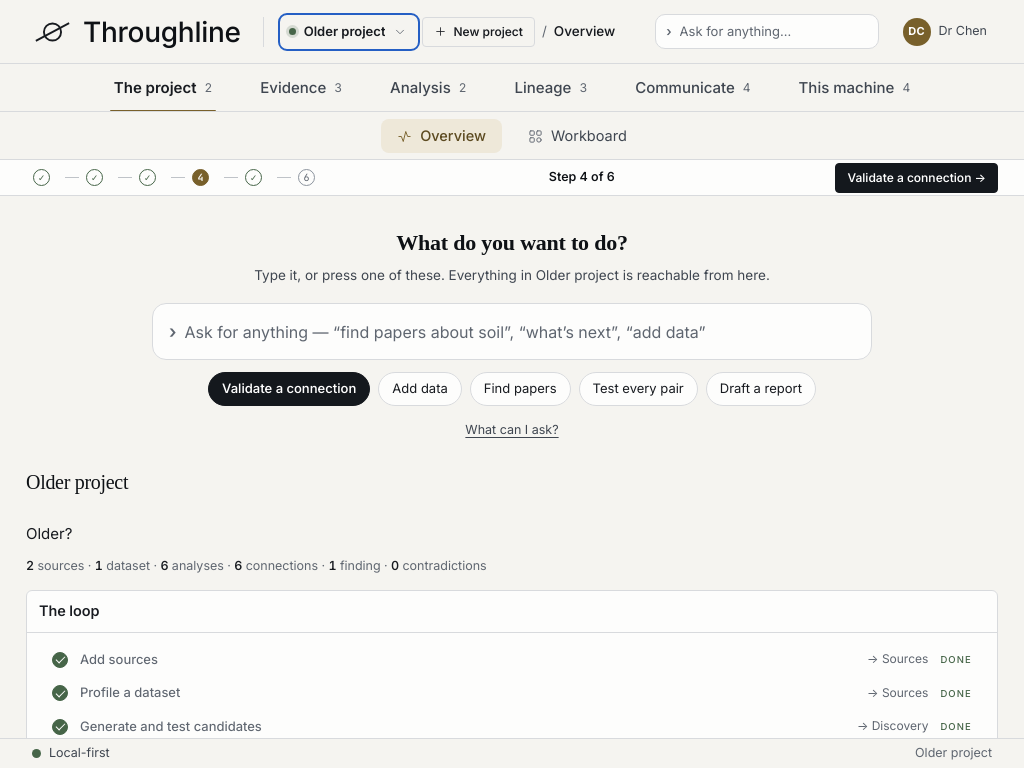
Scenario: a project just created is the one on screen (D196) › offers the worked example to an account that already has projects (D199)
Press Enter
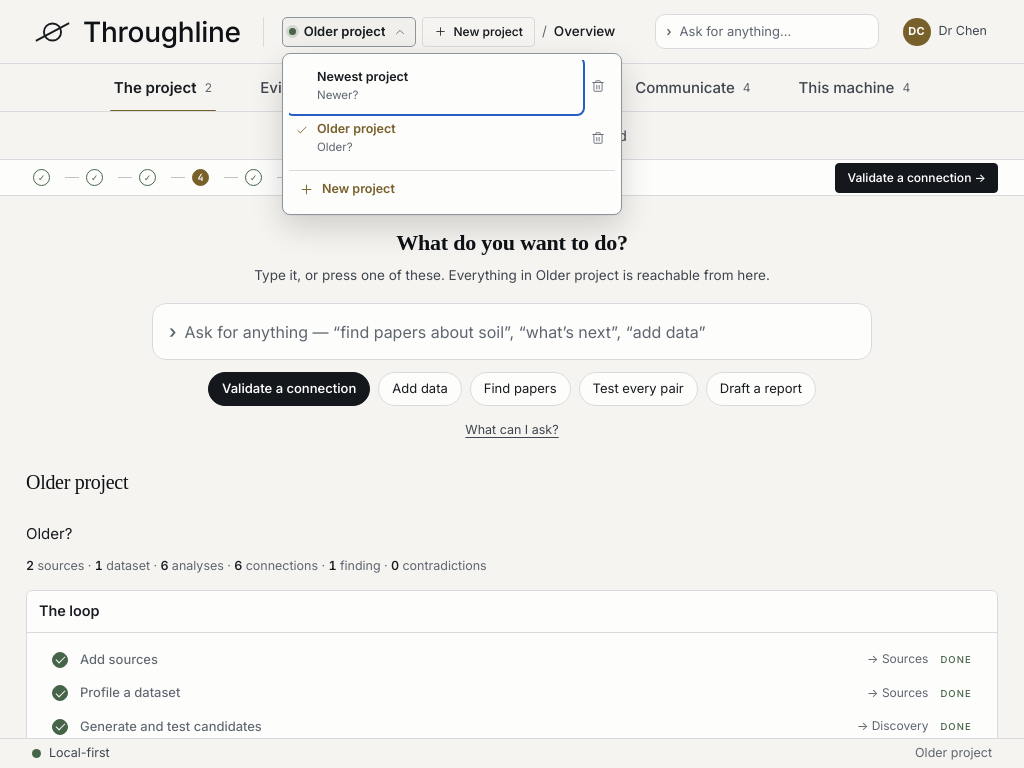
Click the menu item "New project": (358, 188) [289,170,615,208]
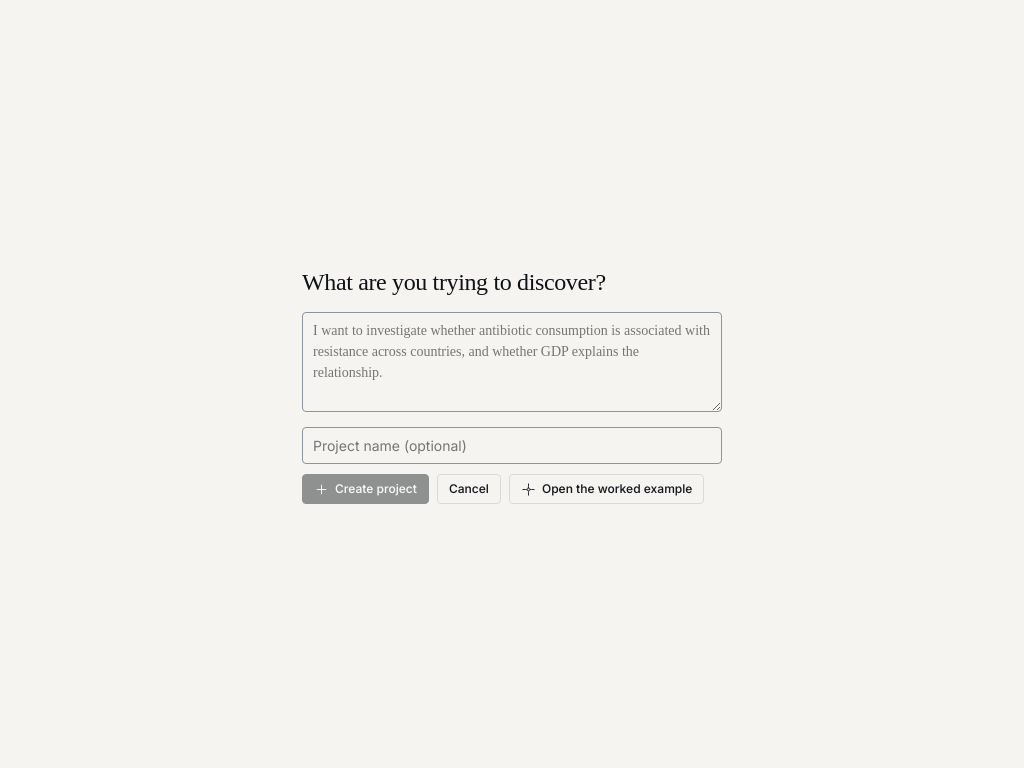
Expected: the button "Open the worked example" is shown, [509,474,704,504]
